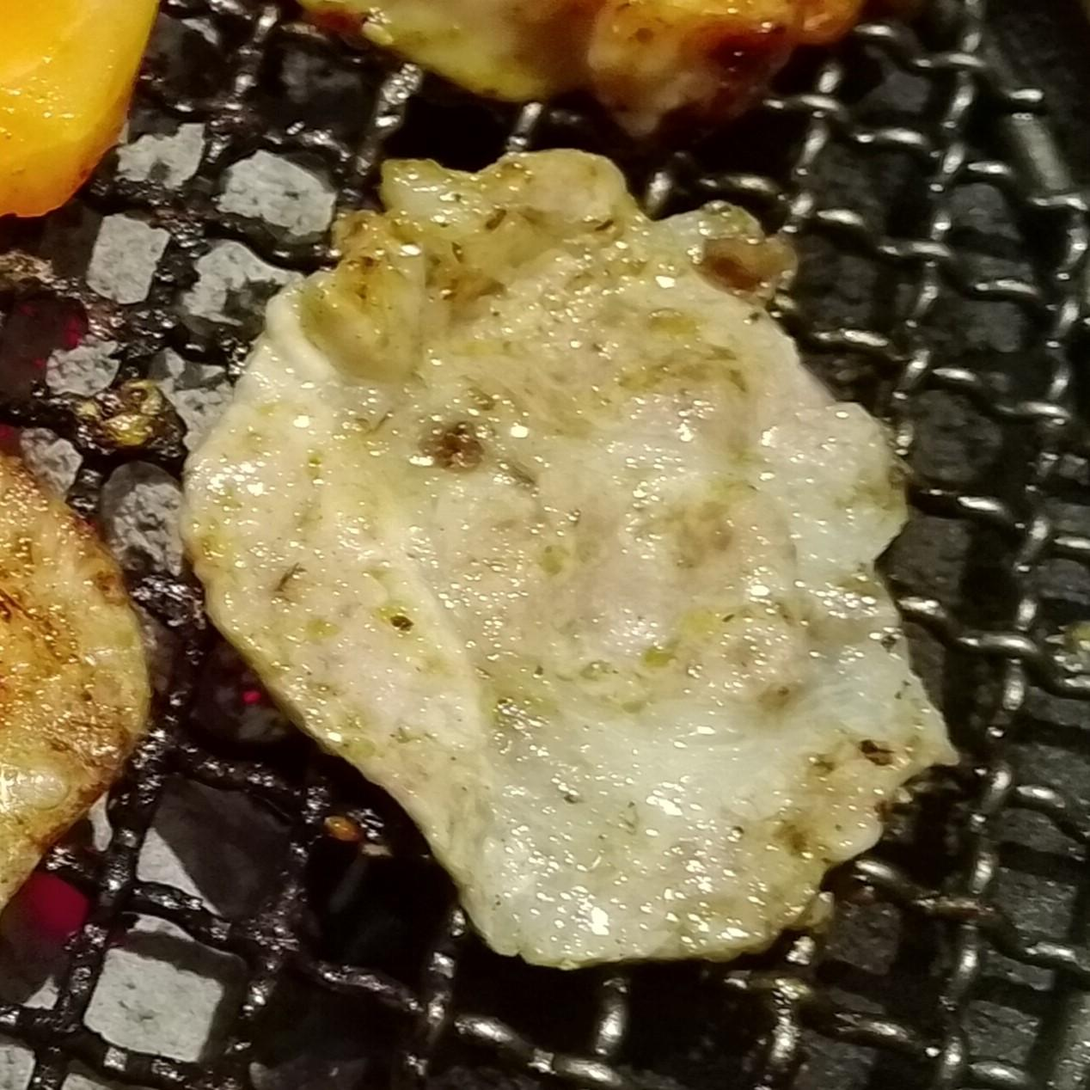Overcooked: (0, 450, 149, 915)
Well-Cooked: (189, 149, 959, 972)
